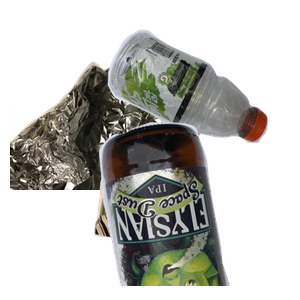glass: (97, 120, 300, 300)
metal: (10, 47, 216, 227)
plastic: (105, 27, 300, 162)
trash: (92, 158, 277, 300)
